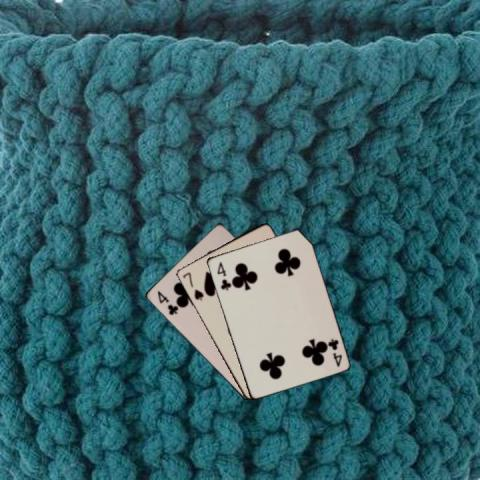4c: (154, 288, 179, 317), (214, 259, 232, 292), (325, 335, 343, 368)
7s: (179, 269, 205, 302)
